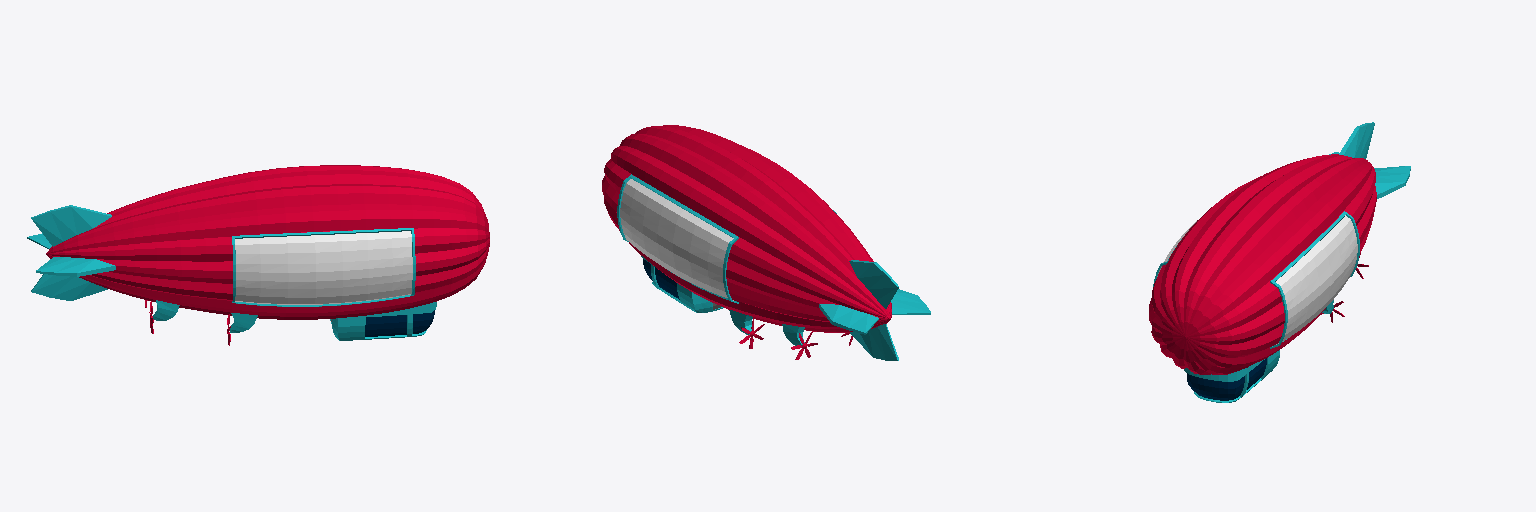
Rendered from Low-Poly_airship.obj.
3 views of the same model, side by side, from view 1: azimuth 30°, elevation 25°; view 2: azimuth 150°, elevation 25°; view 3: azimuth 270°, elevation 25° (orthographic).
Parts seen in each view (by area): view 1: baloon, cube2, wings, cabin.1, cube1, sper; view 2: baloon, cube2, wings, cabin.1, cube, sper; view 3: baloon, cube2, cabin.1, wings, cube.
Part boxes in pixels (x1,y1,x2,y2): baloon: (46,165,489,319); cube2: (235,231,412,304); wings: (27,205,115,300); cabin.1: (330,302,436,340); cube1: (232,228,415,306); sper: (153,300,257,332); baloon: (602,125,891,332); cube2: (620,179,733,300); wings: (819,260,930,360); cabin.1: (641,256,723,312); cube: (617,174,738,303); sper: (729,310,804,345); baloon: (1149,154,1376,374); cube2: (1157,215,1357,344); cabin.1: (1184,350,1279,402); wings: (1329,122,1410,198); cube: (1270,211,1359,348).
Size of the model in its own units: 181 by 71.72 by 107.